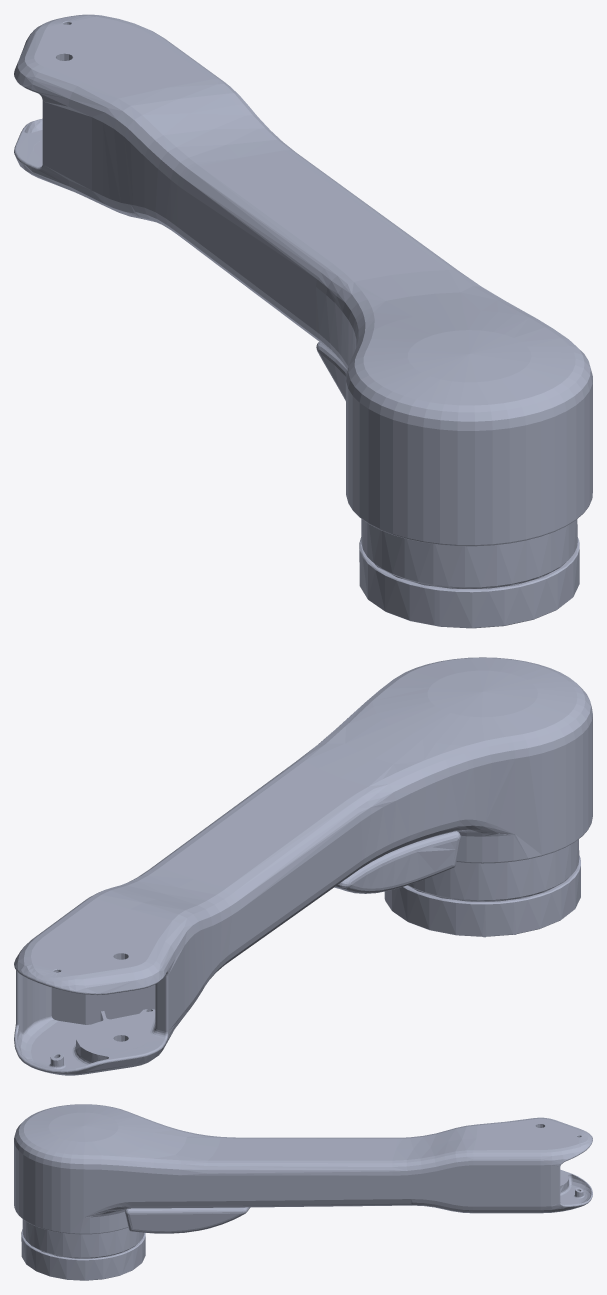
The model's file is left_hip_pitch_link.obj.
3 views of the same model, one above another, from view 1: azimuth 30°, elevation 25°; view 2: azimuth 150°, elevation 25°; view 3: azimuth 270°, elevation 25° (orthographic). The views are drawn at different scales.
Parts seen in each view (by area): view 1: left_hip_pitch_link-mesh; view 2: left_hip_pitch_link-mesh; view 3: left_hip_pitch_link-mesh.
Part boxes in pixels (bbox=[...]): left_hip_pitch_link-mesh: bbox=[14, 14, 592, 628]; left_hip_pitch_link-mesh: bbox=[14, 657, 592, 1075]; left_hip_pitch_link-mesh: bbox=[14, 1104, 592, 1280].
Bounding box in the file's own units: 0.1219 × 0.1244 × 0.5069.
